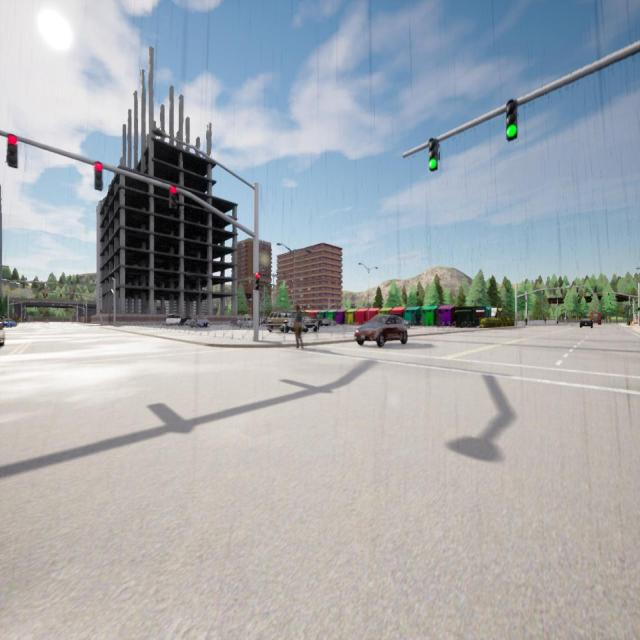Pedestrian: (294, 314, 303, 348), (525, 317, 527, 326)
Traffic_Signs: (564, 317, 566, 320)
Vehicle: (356, 315, 407, 345), (267, 312, 291, 332), (288, 317, 317, 332), (167, 315, 180, 326), (590, 312, 601, 324), (580, 318, 592, 328), (0, 319, 4, 347), (192, 320, 208, 327), (240, 318, 251, 328), (5, 318, 16, 326), (182, 318, 190, 326), (322, 320, 329, 326)
traffic_light: (506, 101, 516, 139), (428, 138, 439, 168), (8, 134, 17, 167), (94, 162, 102, 188), (170, 186, 177, 208), (255, 272, 260, 289), (46, 292, 48, 296), (60, 293, 62, 297), (100, 309, 102, 313), (638, 308, 640, 312), (578, 294, 579, 299), (76, 294, 77, 298), (608, 293, 609, 297), (591, 294, 592, 298)
